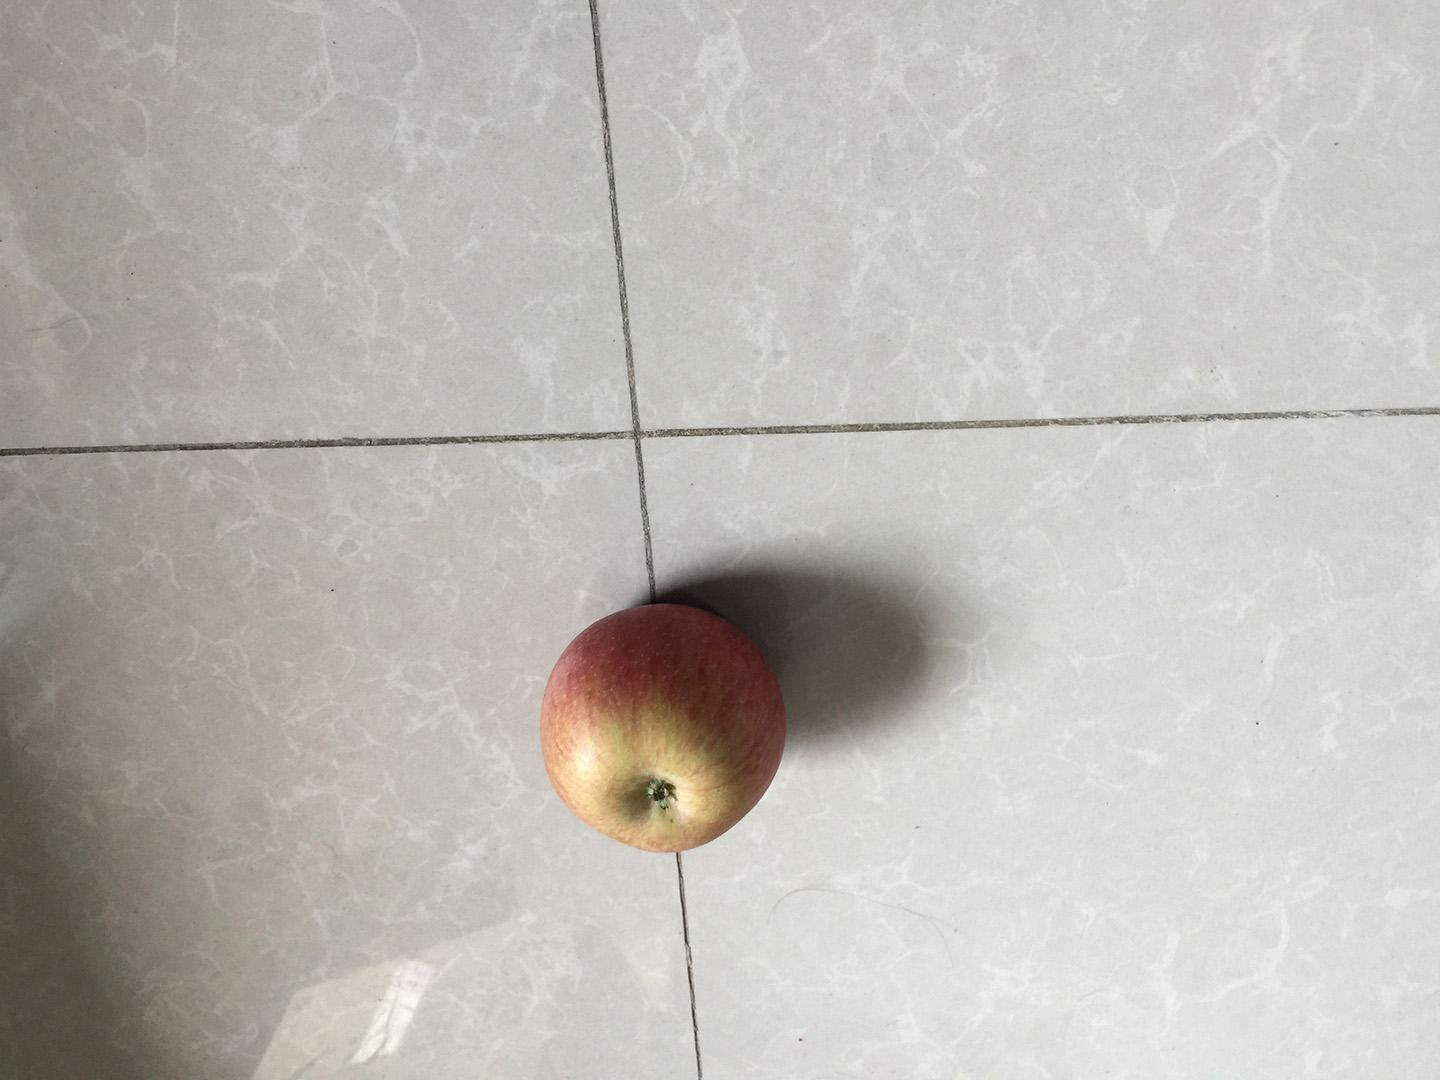apple: (535, 598, 789, 858)
